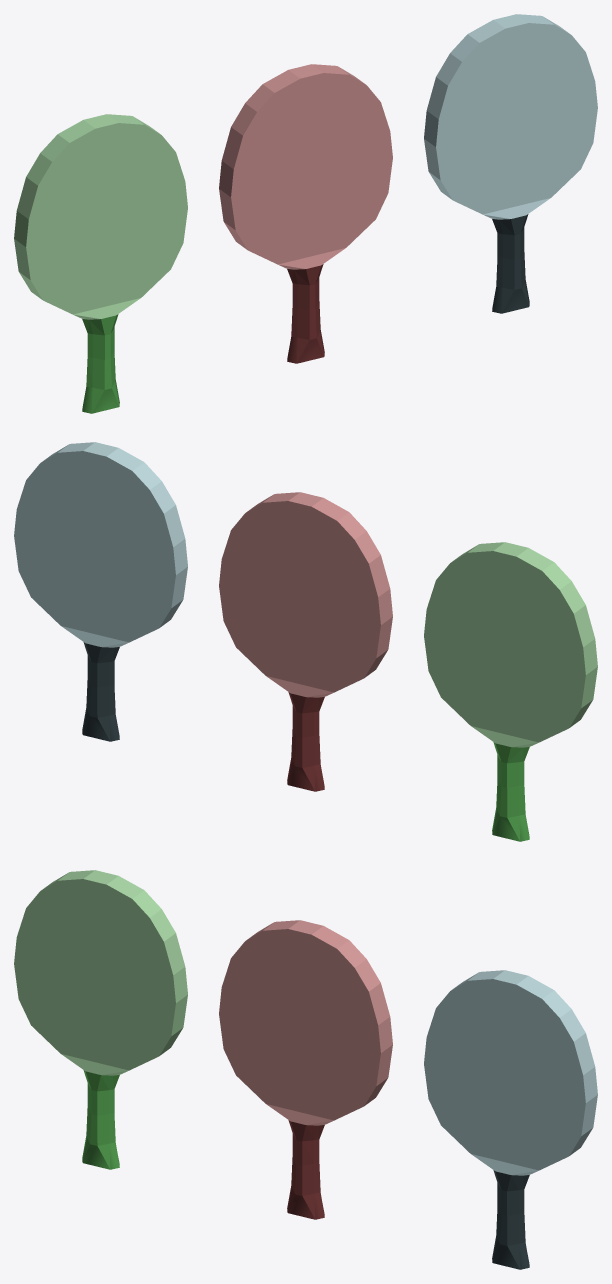
File: Paddles.FBX
3 renders of one model, top to bottom at view 1: azimuth 30°, elevation 25°; view 2: azimuth 150°, elevation 25°; view 3: azimuth 330°, elevation 25°, orthographic.
Parts seen in each view (by area): view 1: PingPongRacket001, PingPongRacket, PingPongRacket002; view 2: PingPongRacket001, PingPongRacket, PingPongRacket002; view 3: PingPongRacket001, PingPongRacket002, PingPongRacket.
Boxes of the visible parts, x1,y1,x2,y2 form: PingPongRacket001: (219,64,392,363); PingPongRacket: (424,14,597,313); PingPongRacket002: (14,114,187,413); PingPongRacket001: (219,492,392,791); PingPongRacket: (14,442,187,741); PingPongRacket002: (424,542,597,841); PingPongRacket001: (219,920,392,1219); PingPongRacket002: (14,870,187,1169); PingPongRacket: (424,970,597,1269).
Bounding box in the file's own units: 1073 × 512 × 50.38.
